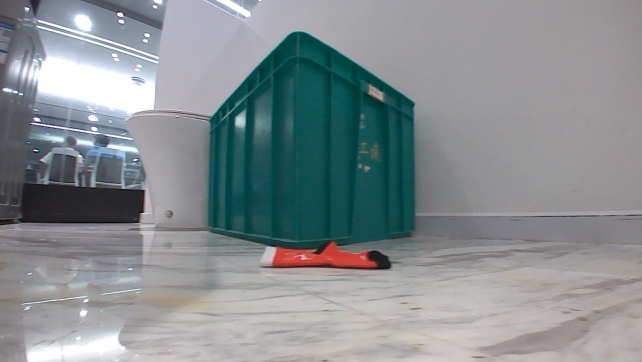socks: (255, 238, 392, 270)
toilet: (120, 108, 216, 233)
